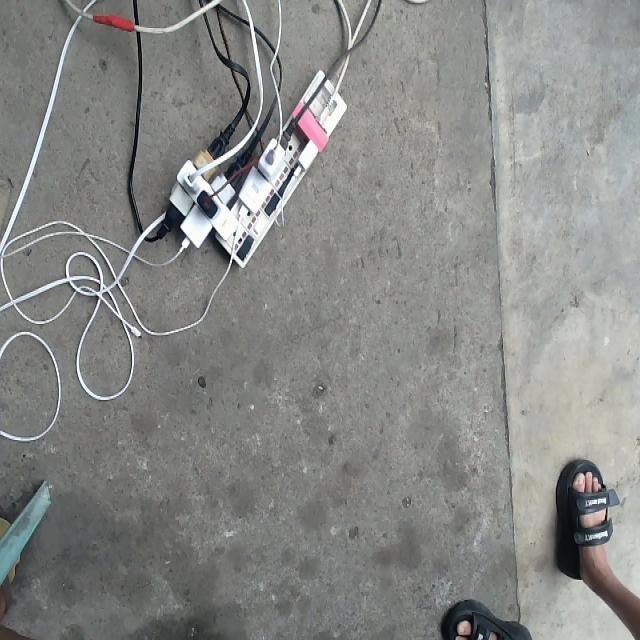-: (165, 67, 346, 272)
